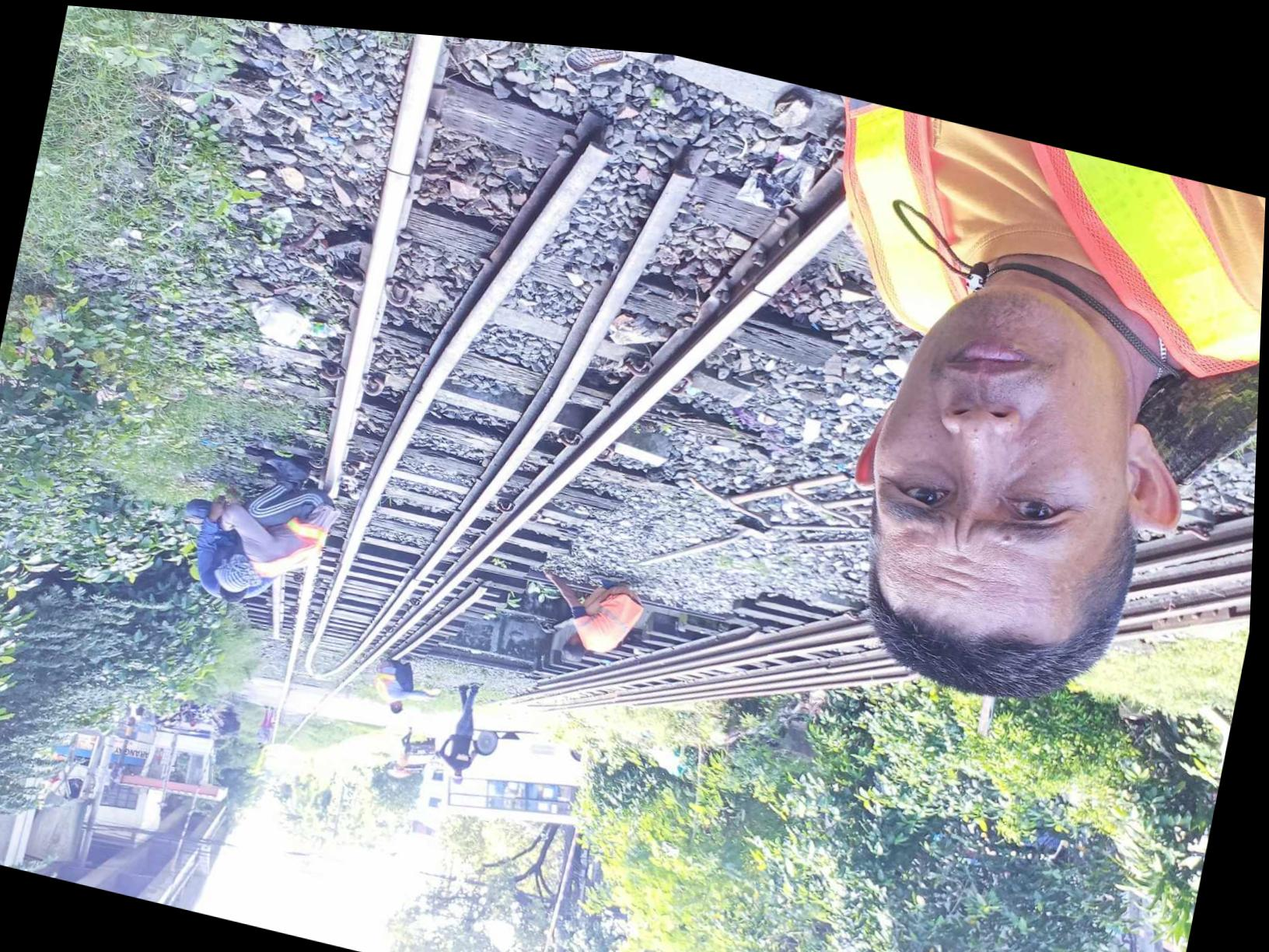person: (361, 135, 438, 205), (740, 258, 786, 301)
